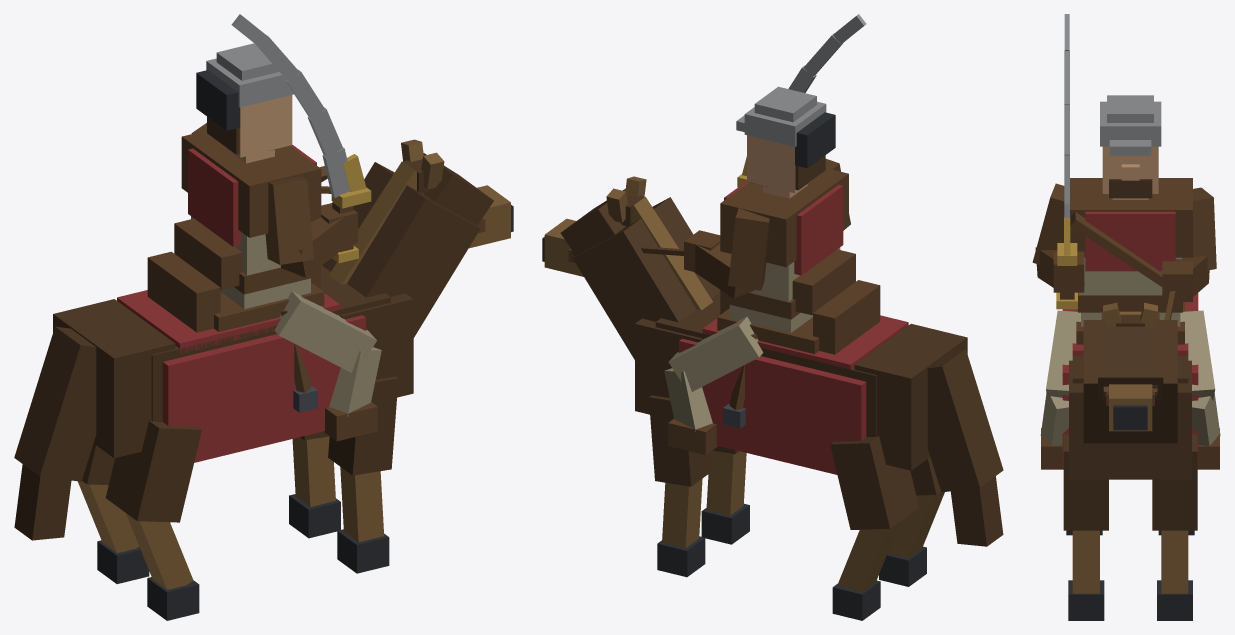
Rendered from rider.glb.
3 renders of one model, left to right at view 1: azimuth 30°, elevation 25°; view 2: azimuth 150°, elevation 25°; view 3: azimuth 270°, elevation 25°, orthographic. The views are drawn at different scales.
Parts seen in each view (by area): view 1: Cube.034, Cube.004, Cube.002, Cube.017, Cube.031, Cube.047, Cube.048, Cube.038, Cube.001, Cube.070, Cube.055, Cube.025 (+33 smaller); view 2: Cube.035, Cube.004, Cube.002, Cube.017, Cube.028, Cube.047, Cube.051, Cube.038, Cube.055, Cube.001, Cube.022, Cube (+29 smaller); view 3: Cube.001, Cube.004, Cube.054, Cube.047, Cube.006, Cube.022, Cube.025, Cube.048, Cube.051, Cube.023, Cube.026, Cube.046 (+36 smaller).
Part boxes in pixels (x1,y1,x2,y2): Cube.034: (162, 315, 365, 462); Cube.004: (322, 162, 480, 337); Cube.002: (53, 299, 175, 458); Cube.017: (14, 326, 96, 481); Cube.031: (105, 421, 201, 522); Cube.047: (181, 130, 321, 237); Cube.048: (274, 291, 376, 372); Cube.038: (147, 251, 220, 332); Cube.001: (340, 293, 413, 397); Cube.070: (265, 176, 313, 264); Cube.055: (188, 148, 240, 246); Cube.025: (328, 376, 398, 475); Cube.035: (679, 338, 866, 474); Cube.004: (573, 197, 720, 359); Cube.002: (854, 323, 967, 470); Cube.017: (927, 349, 1003, 492); Cube.028: (830, 436, 918, 529); Cube.047: (720, 168, 848, 267); Cube.051: (668, 316, 763, 391); Cube.038: (813, 280, 880, 354); Cube.055: (794, 184, 843, 275); Cube.001: (635, 318, 702, 414); Cube.022: (648, 395, 713, 486); Cube: (655, 292, 876, 437); Cube.001: (1069, 360, 1191, 479); Cube.004: (1083, 320, 1177, 443); Cube.054: (1085, 211, 1175, 271); Cube.047: (1070, 178, 1192, 257); Cube.006: (1098, 326, 1163, 400); Cube.022: (1152, 434, 1197, 530); Cube.025: (1063, 434, 1108, 530); Cube.048: (1046, 310, 1080, 400); Cube.051: (1180, 310, 1215, 400); Cube.023: (1161, 530, 1188, 593); Cube.026: (1072, 530, 1099, 593); Cube.046: (1079, 257, 1181, 294).
Bounding box in the file's own units: 28.24 × 32.95 × 10.39.
